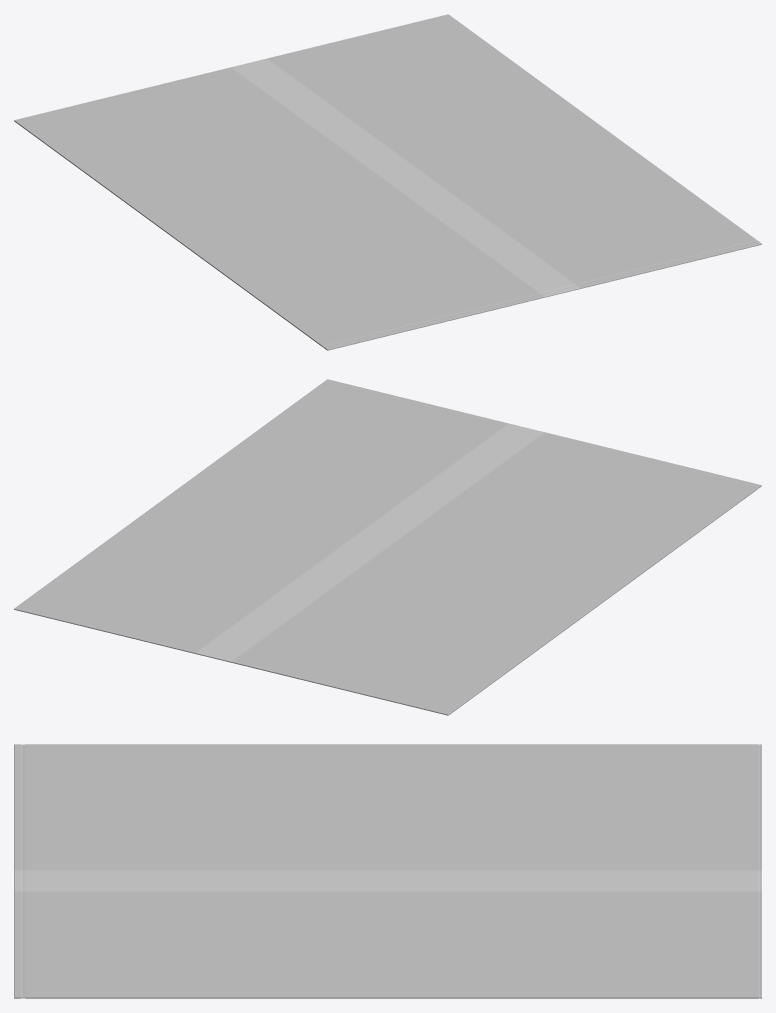
File: Project Name.glb
The picture shows the model from 3 angles, top to bottom: view 1: azimuth 30°, elevation 25°; view 2: azimuth 150°, elevation 25°; view 3: azimuth 270°, elevation 25°; orthographic projection. The views are drawn at different scales.
Parts seen in each view (by area): view 1: 51072_StrellaRug_Grey; view 2: 51072_StrellaRug_Grey; view 3: 51072_StrellaRug_Grey.
Part boxes in pixels (left/top/right/bottom): 51072_StrellaRug_Grey: left=14, top=14, right=761, bottom=350; 51072_StrellaRug_Grey: left=14, top=379, right=761, bottom=715; 51072_StrellaRug_Grey: left=14, top=744, right=761, bottom=998.
Bounding box in the file's own units: 2.44 × 0.00716 × 3.05.
1 material, 1 textured.
